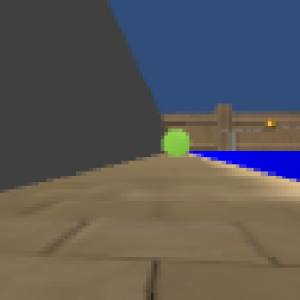goodGoal: (163, 124, 193, 162)
goodGoalMulti: (264, 117, 280, 133)
platform: (193, 146, 300, 197)
wall: (1, 1, 162, 190)
